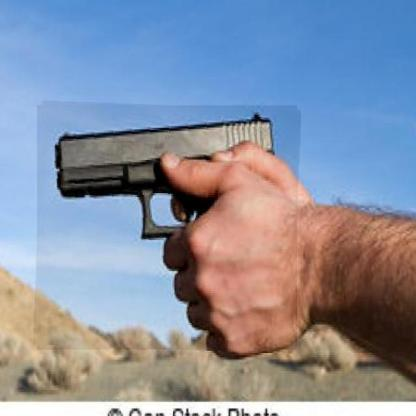handgun: (35, 103, 299, 352)
